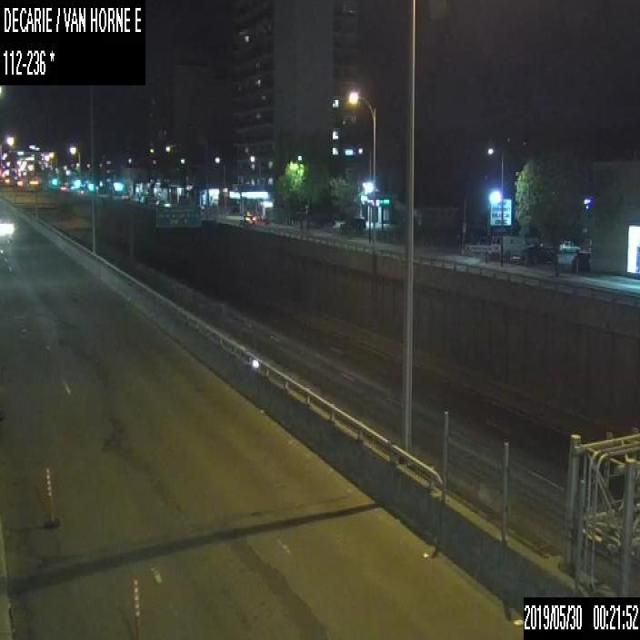construction: (43, 470, 59, 530), (131, 577, 141, 639)
vehicle: (558, 239, 579, 251), (238, 209, 254, 223)
